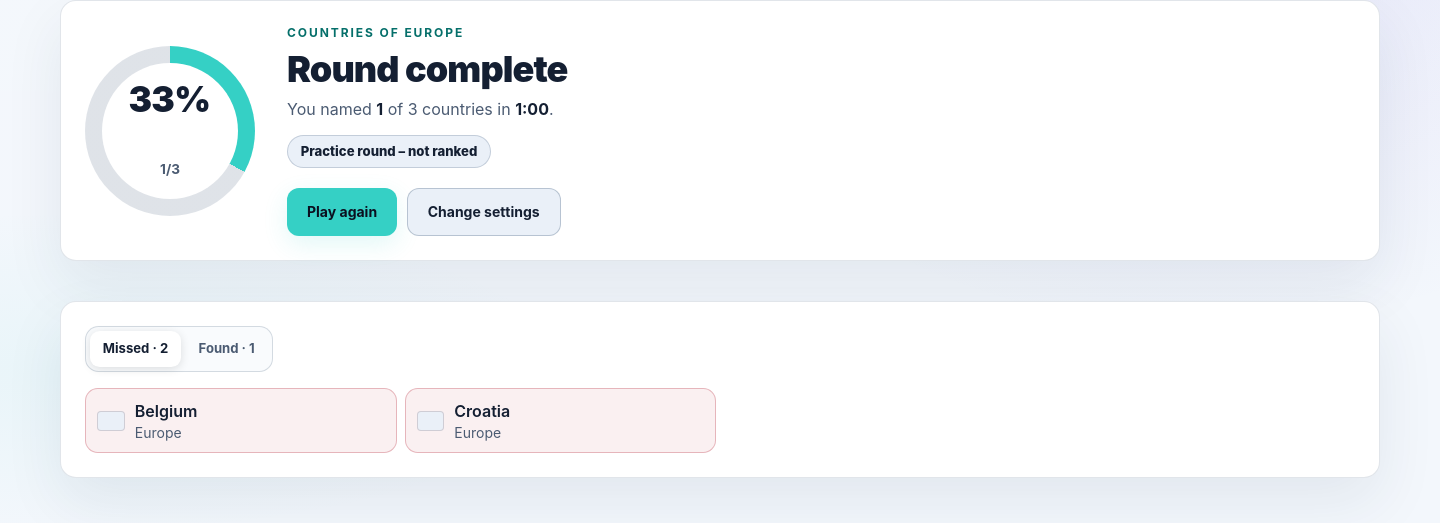
it: selects a tab on click
Click the tab "Found · 1" at (227, 349), box [186,331,268,367]
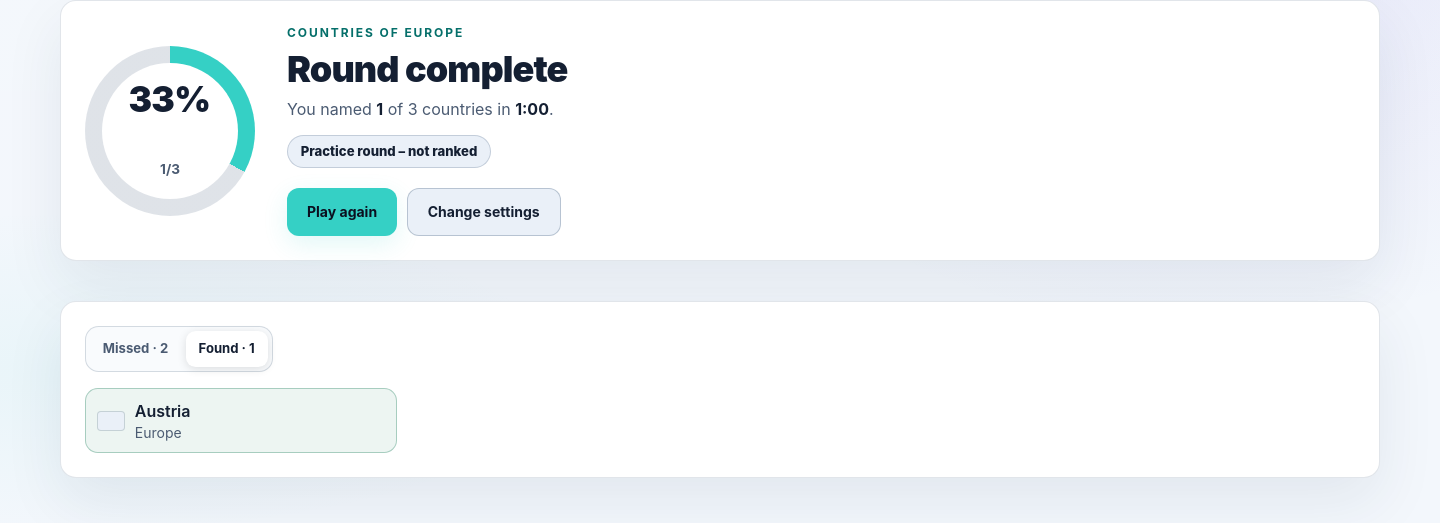
Check: the panel shows "Austria", box [135,401,190,421]
